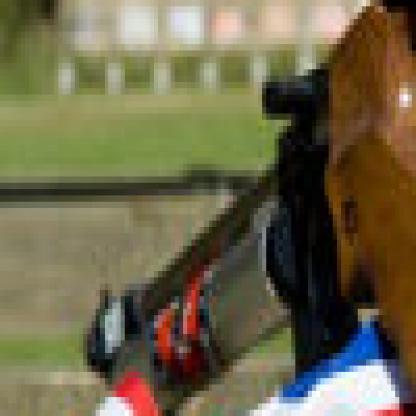gun: (79, 0, 412, 410)
